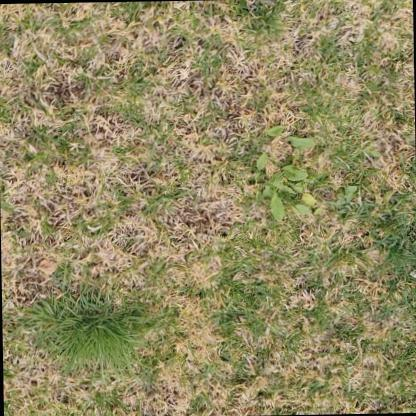Weeds: (256, 123, 318, 223)
